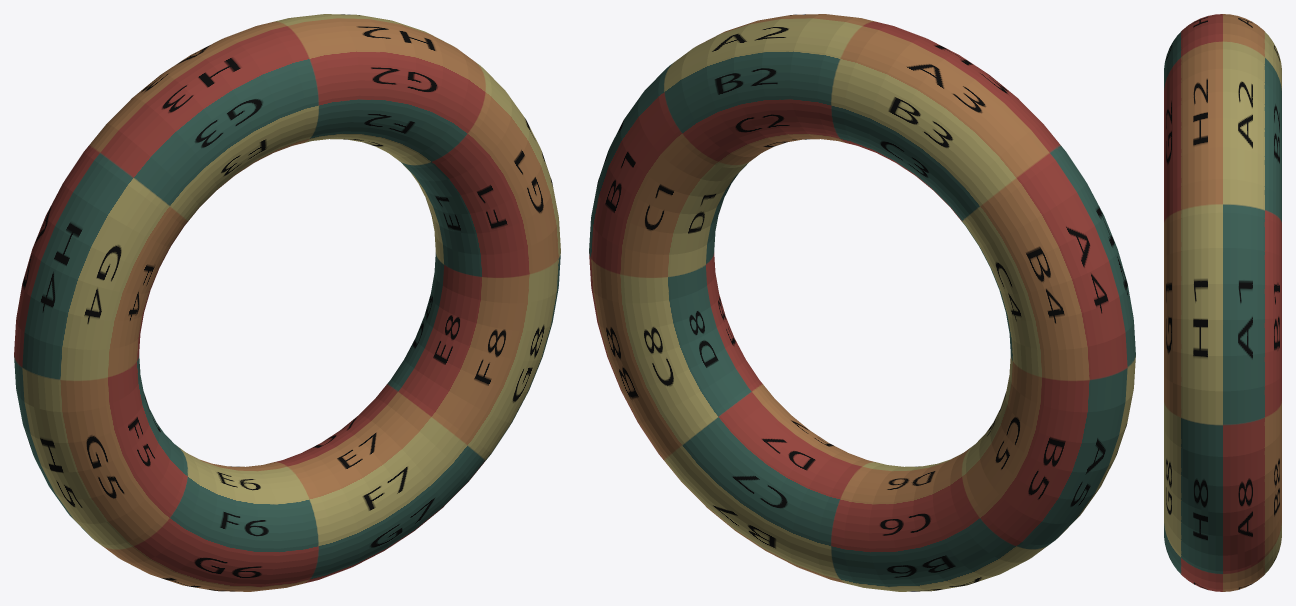
The model's file is texture_torus_R20_r15.glb.
The picture shows the model from 3 angles, left to right: view 1: azimuth 30°, elevation 25°; view 2: azimuth 150°, elevation 25°; view 3: azimuth 270°, elevation 25°; orthographic projection. The views are drawn at different scales.
Parts seen in each view (by area): view 1: world; view 2: world; view 3: world.
Part boxes in pixels (x1=…): world: x1=14, y1=14, x2=560, y2=591; world: x1=589, y1=14, x2=1135, y2=591; world: x1=1164, y1=14, x2=1281, y2=591.
Size of the model in its own units: 29.33 by 29.28 by 5.99.
1 material, 1 textured.
